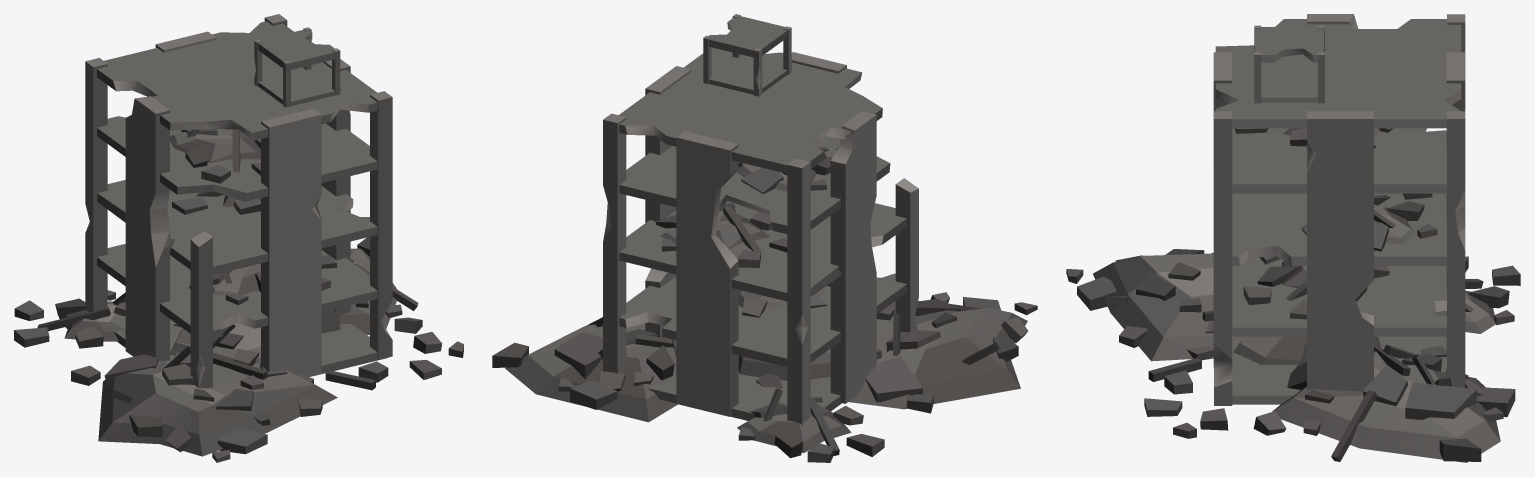
The model's file is SA_Bld_Building_Damaged_01.gltf.
The picture shows the model from 3 angles, left to right: view 1: azimuth 30°, elevation 25°; view 2: azimuth 150°, elevation 25°; view 3: azimuth 270°, elevation 25°; orthographic projection. The views are drawn at different scales.
Visible parts, largest first — view 1: SA_Bld_Building_Damaged_01; view 2: SA_Bld_Building_Damaged_01; view 3: SA_Bld_Building_Damaged_01.
Boxes of the visible parts, left/top/right/bottom form: SA_Bld_Building_Damaged_01: left=14, top=14, right=463, bottom=462; SA_Bld_Building_Damaged_01: left=492, top=14, right=1037, bottom=462; SA_Bld_Building_Damaged_01: left=1066, top=14, right=1520, bottom=462.
Size of the model in its own units: 26.32 by 20.05 by 23.75.
Materials: 1 (1 with a texture image).
